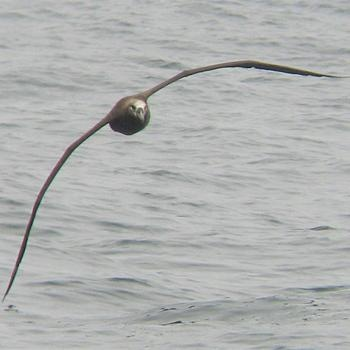bird: (3, 57, 350, 303)
